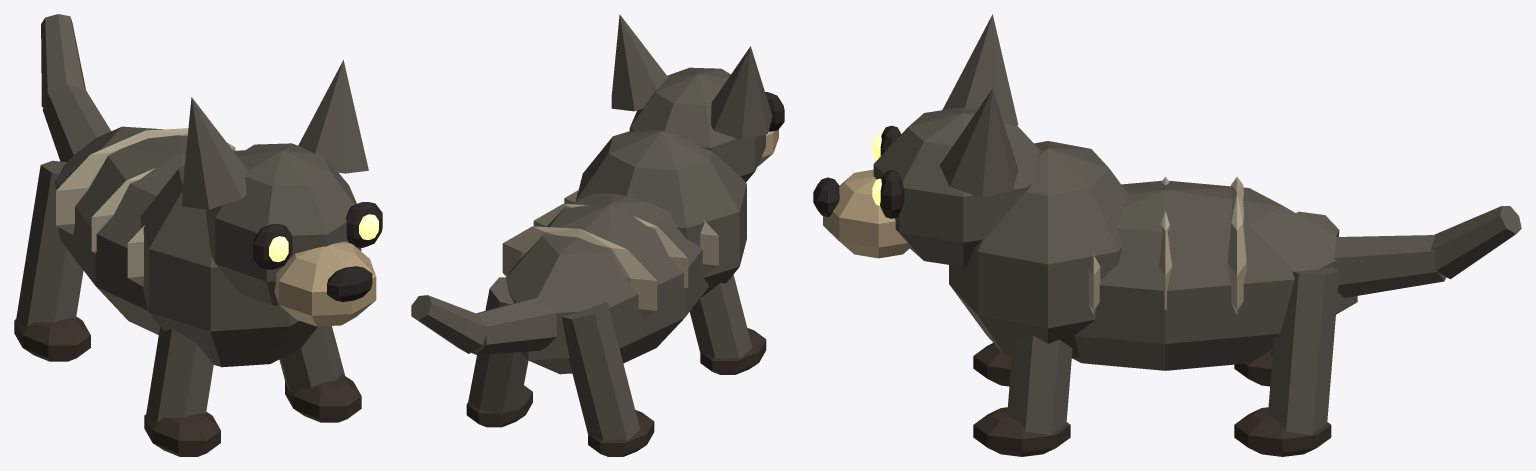
The model's file is fauna-barrow_hound.glb.
3 renders of one model, left to right at view 1: azimuth 30°, elevation 25°; view 2: azimuth 150°, elevation 25°; view 3: azimuth 270°, elevation 25°, orthographic. The views are drawn at different scales.
Parts seen in each view (by area): view 1: Fauna_barrow_hound; view 2: Fauna_barrow_hound; view 3: Fauna_barrow_hound.
Part boxes in pixels (<box>): Fauna_barrow_hound: <box>14,14,382,456</box>; Fauna_barrow_hound: <box>411,14,784,456</box>; Fauna_barrow_hound: <box>813,14,1521,456</box>.
Bounding box in the file's own units: 0.7132 × 1.24 × 2.17.
